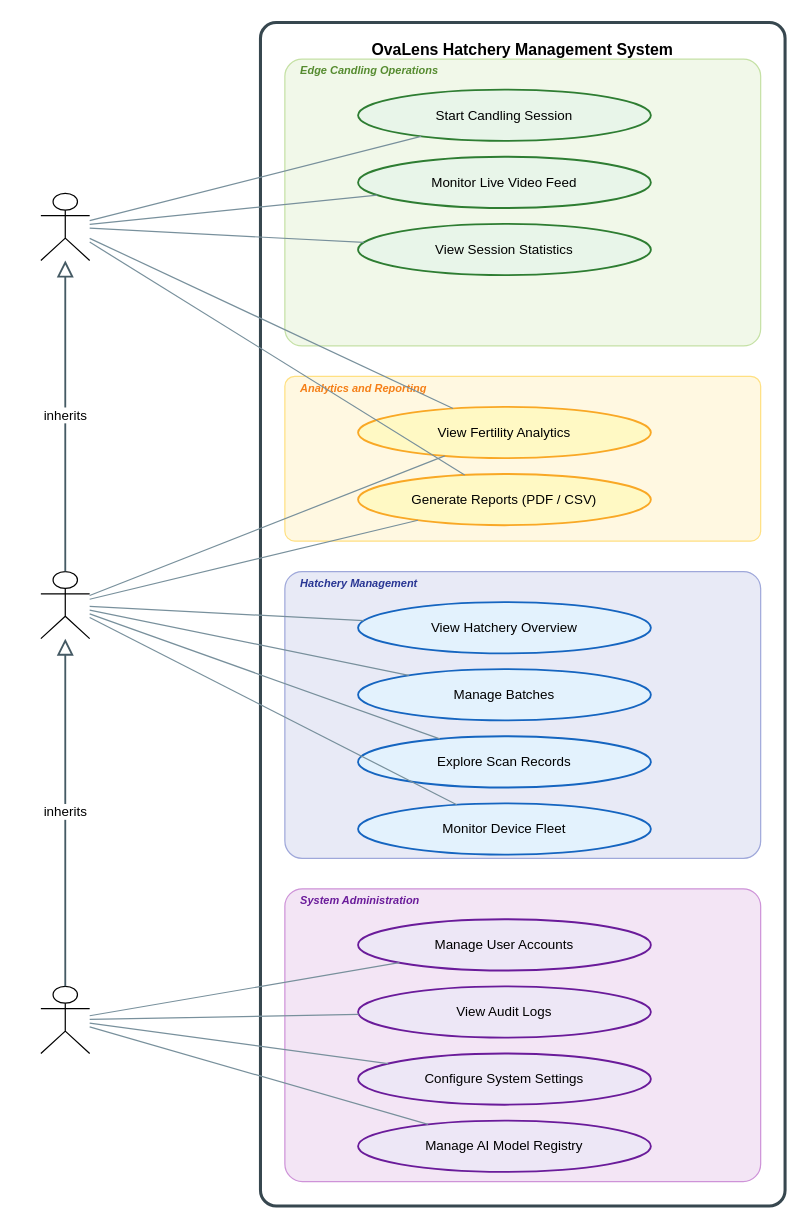
The diagram is 808 pixels wide and 1229 high, and some of its shapes have lost their labels. Here are the shapes that lost their labels. From the top down, the centre of each, then its label:
(65,226): Operator
(65,604): Supervisor
(65,1019): Administrator (Full Access)
